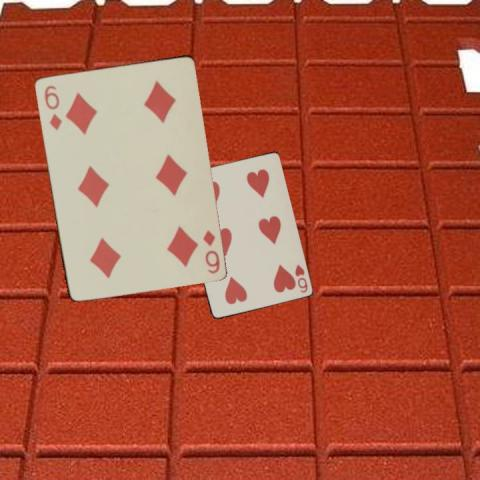6d: (40, 82, 62, 131), (199, 226, 221, 275)
6h: (291, 261, 309, 294)
